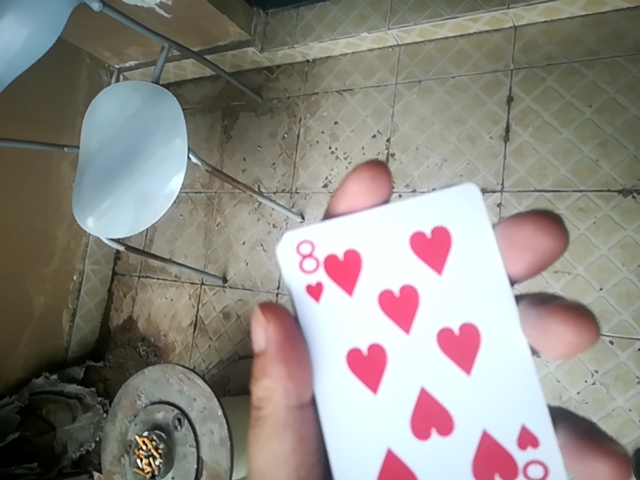hx 8: (288, 182, 570, 479)
